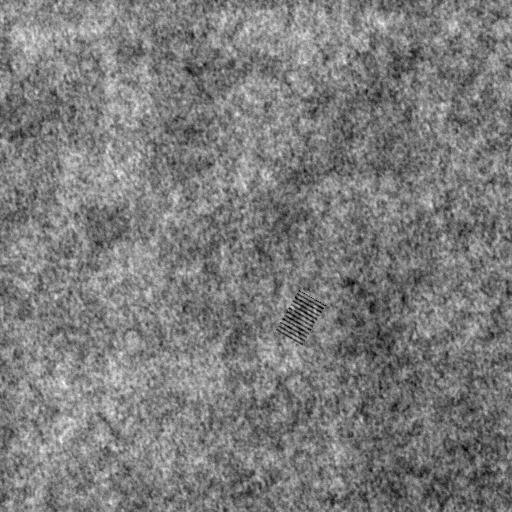DefectTypeB: (279, 291, 325, 344)
